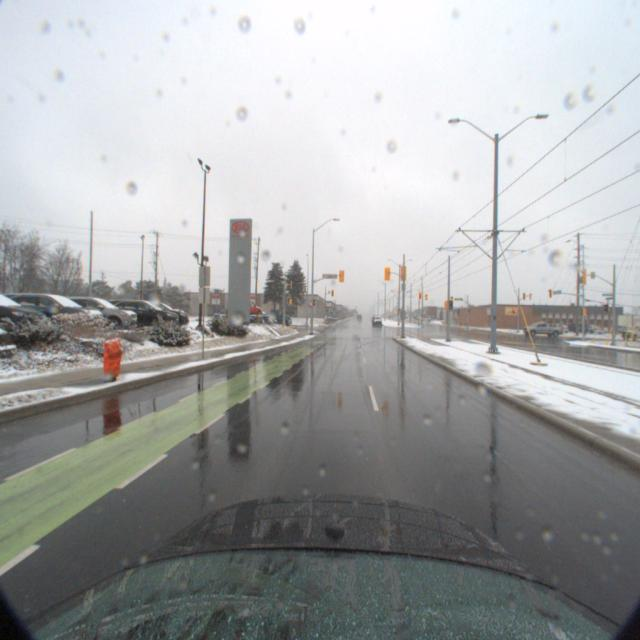Car: (36, 287, 140, 327), (98, 290, 180, 326), (116, 292, 190, 324)
Truck: (226, 299, 294, 321), (524, 318, 568, 333)
